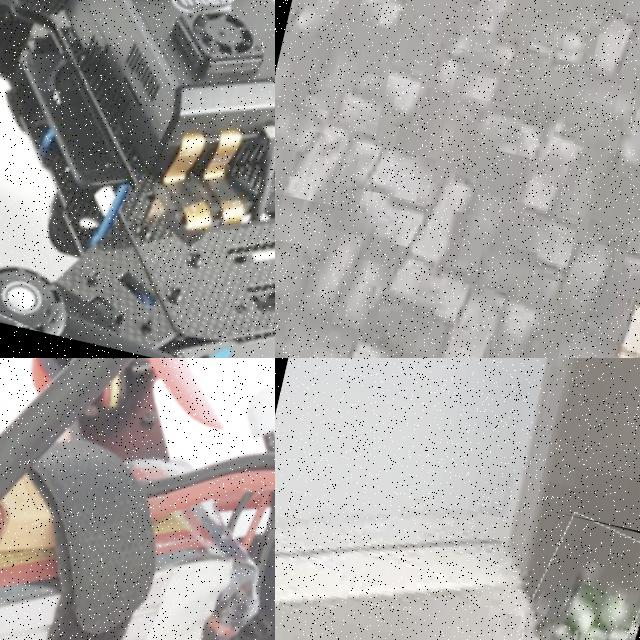0: (509, 510, 640, 640)
drone: (0, 0, 275, 358), (0, 358, 275, 640)
